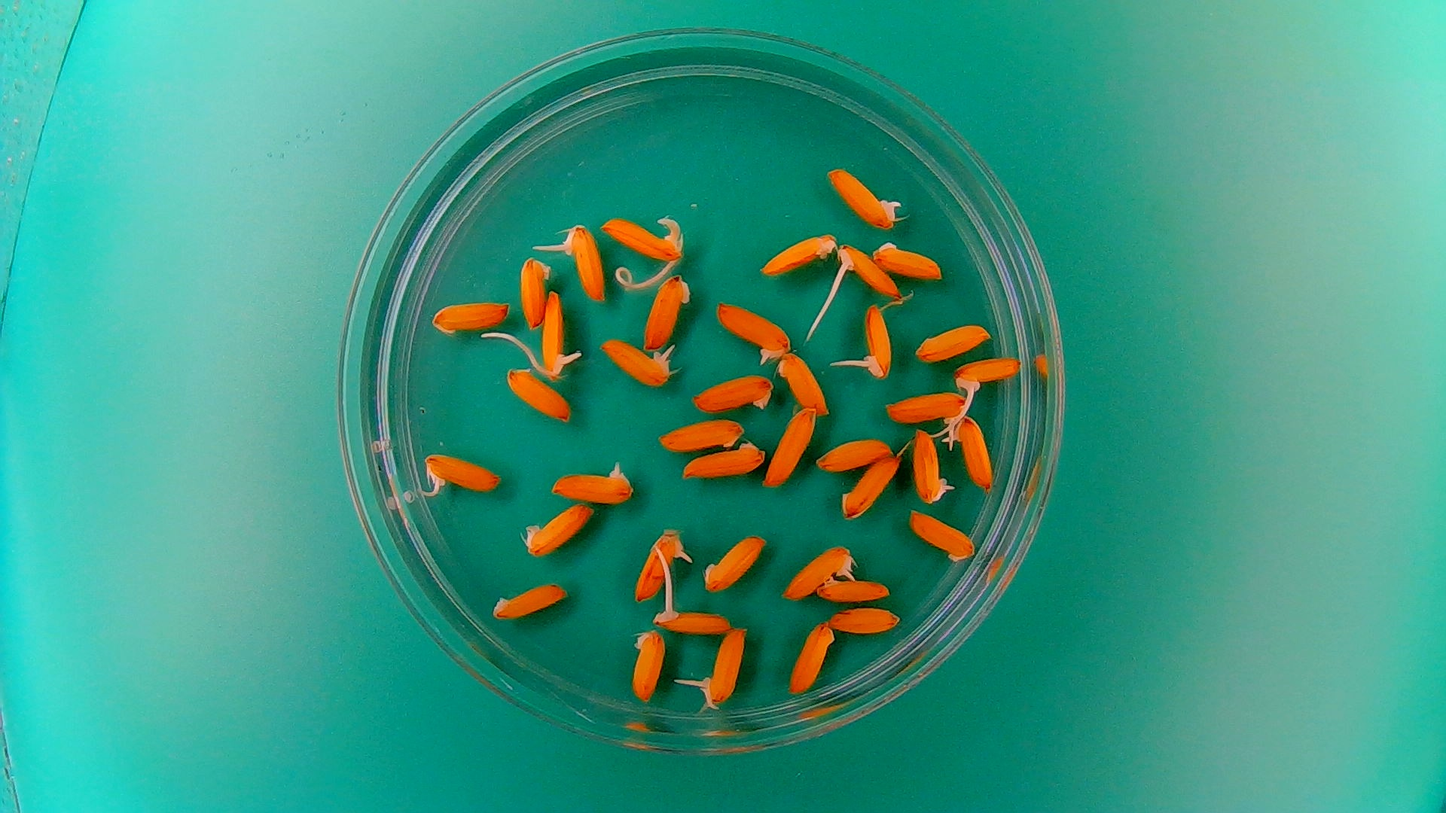no: (764, 403, 818, 489), (519, 499, 596, 557), (839, 452, 902, 521), (640, 270, 693, 352), (700, 531, 768, 593), (502, 363, 572, 423), (755, 227, 839, 277), (905, 507, 978, 563), (679, 439, 770, 483), (688, 370, 776, 415), (786, 618, 836, 696), (653, 413, 748, 453), (777, 349, 831, 416), (488, 577, 571, 620), (913, 318, 994, 362), (428, 296, 511, 337), (870, 237, 946, 281), (815, 433, 895, 472), (627, 626, 667, 704), (517, 254, 553, 329), (828, 604, 903, 635), (816, 573, 893, 602)
yes: (709, 297, 792, 364), (824, 164, 905, 230), (630, 524, 694, 604), (778, 541, 855, 602), (944, 416, 999, 498), (595, 212, 685, 262), (595, 333, 677, 387), (552, 224, 608, 303), (548, 457, 636, 505), (695, 626, 743, 708), (834, 240, 901, 298), (422, 449, 503, 495), (538, 285, 578, 378), (883, 385, 969, 425), (911, 425, 953, 506), (950, 352, 1023, 397), (853, 300, 894, 380), (646, 601, 734, 635)
